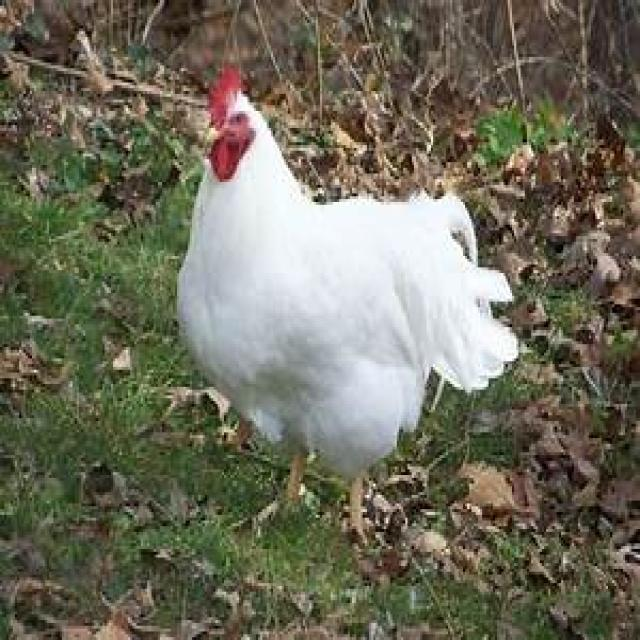hen: (177, 68, 521, 489)
